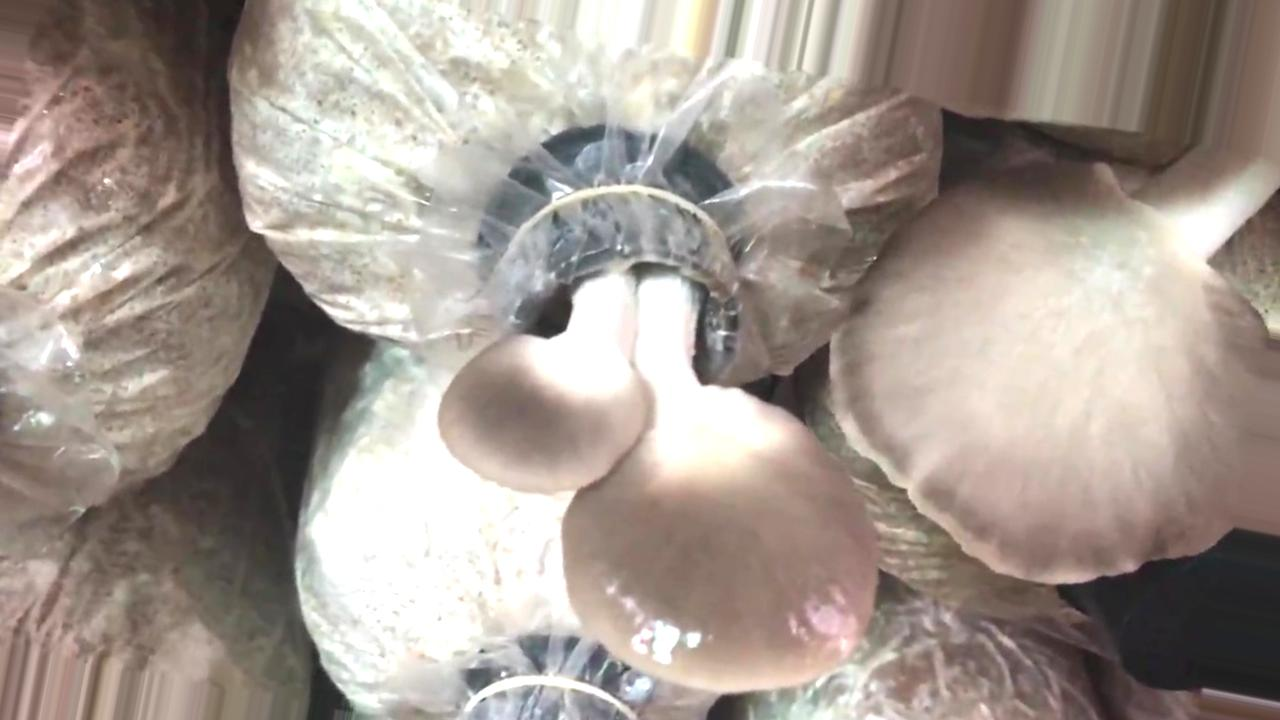nam: (435, 155, 881, 699), (823, 147, 1280, 588)
